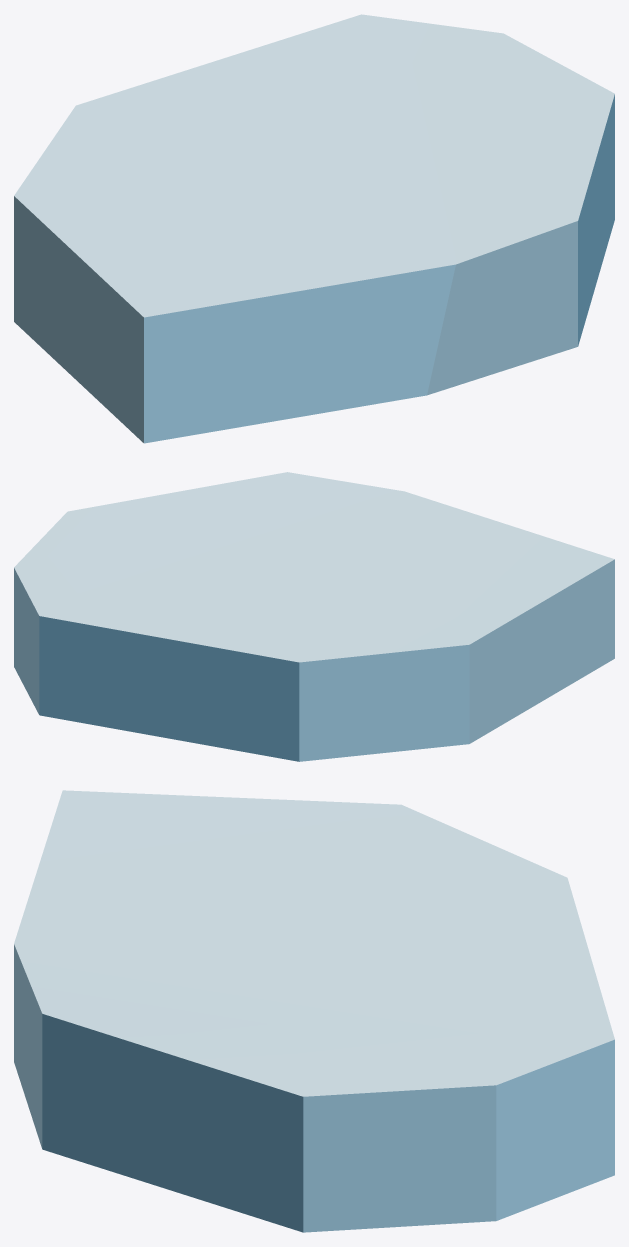
File: dao02.fbx
3 views of the same model, one above another, from view 1: azimuth 30°, elevation 25°; view 2: azimuth 150°, elevation 25°; view 3: azimuth 270°, elevation 25° (orthographic). The views are drawn at different scales.
Visible parts, largest first — view 1: dao02; view 2: dao02; view 3: dao02.
Part boxes in pixels (x1=…): dao02: x1=14, y1=14, x2=614, y2=443; dao02: x1=14, y1=472, x2=614, y2=761; dao02: x1=14, y1=790, x2=614, y2=1232.
Bounding box in the file's own units: 594 × 123 × 492.
